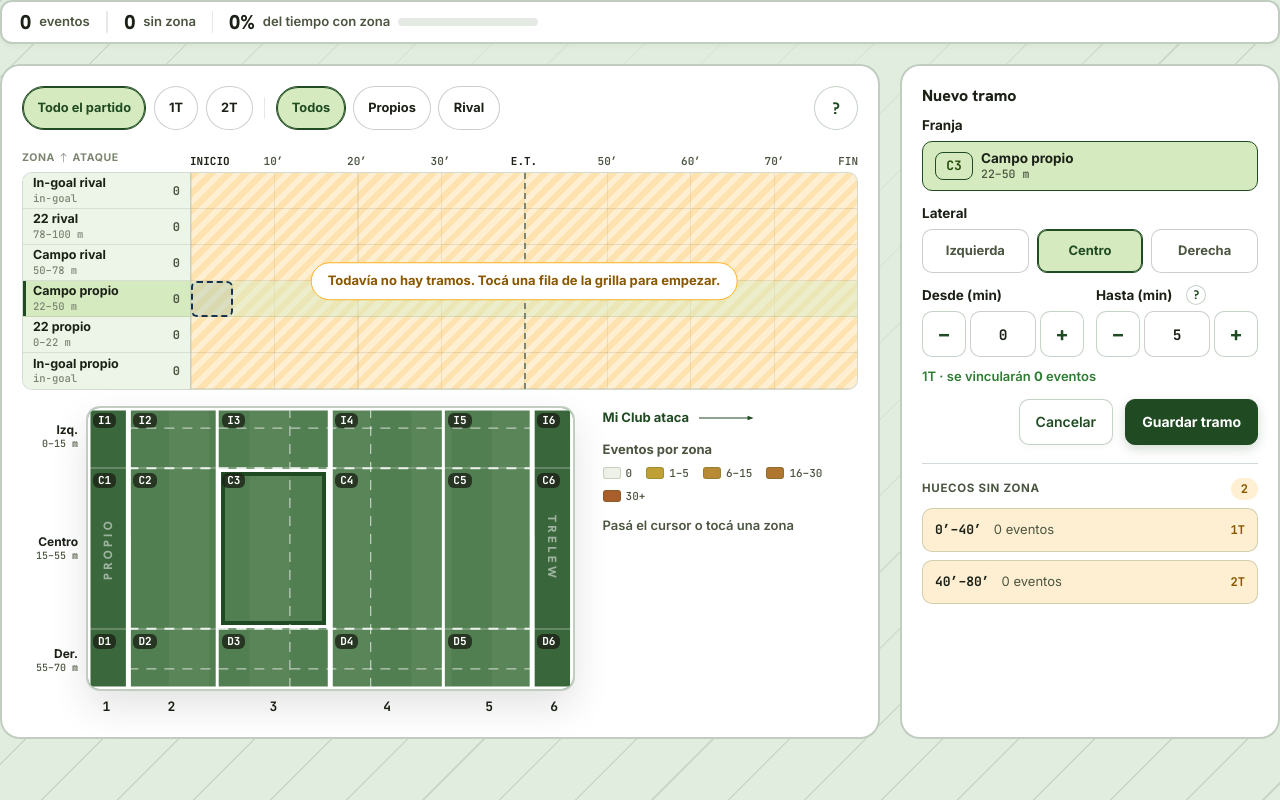
Scenario: PostMatchZonesComponent › atajos de teclado › Ctrl/Cmd + Enter con el formulario inválido no guarda y deja el error inline
This screenshot has width=1280, height=800.
Replace the text in the number field with id "zone-end" with "0" at point(1177, 334), box [1144, 311, 1210, 357]
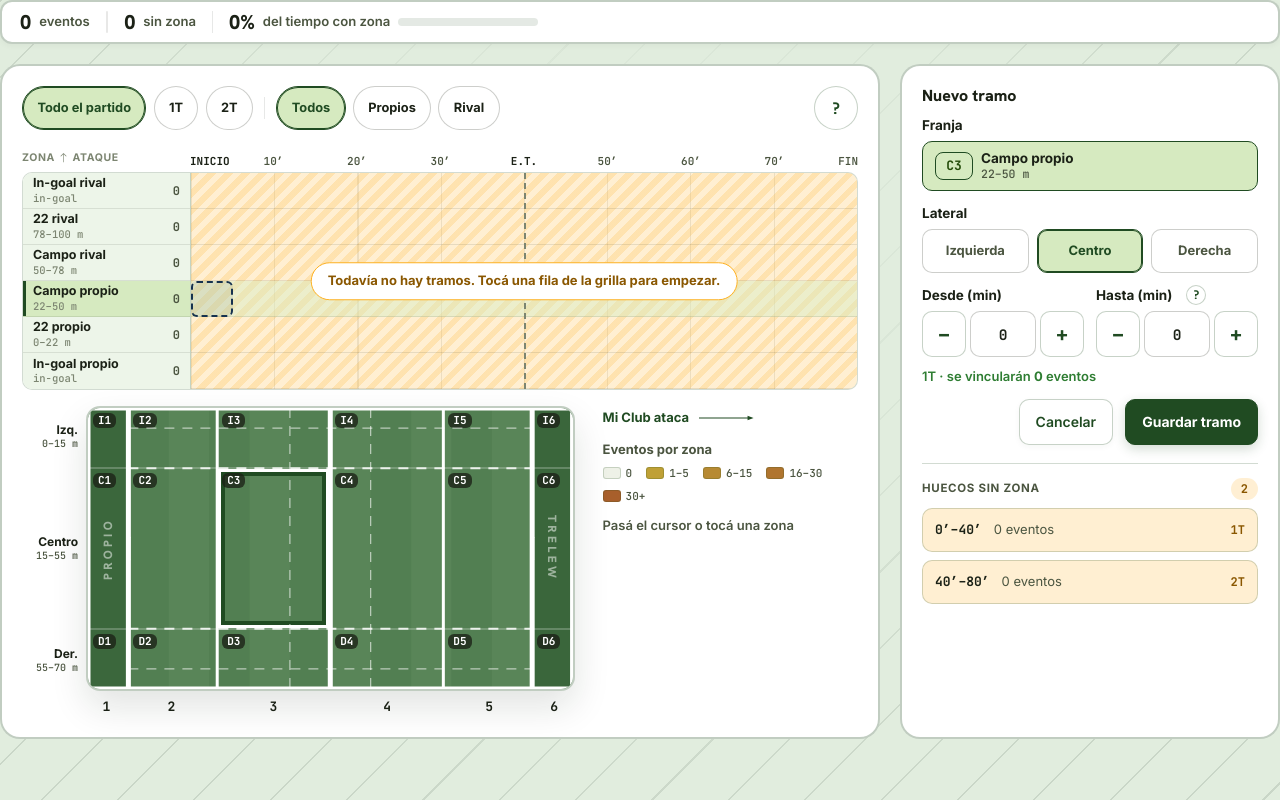
Press Enter in the number field with id "zone-end", box [1144, 311, 1210, 357]
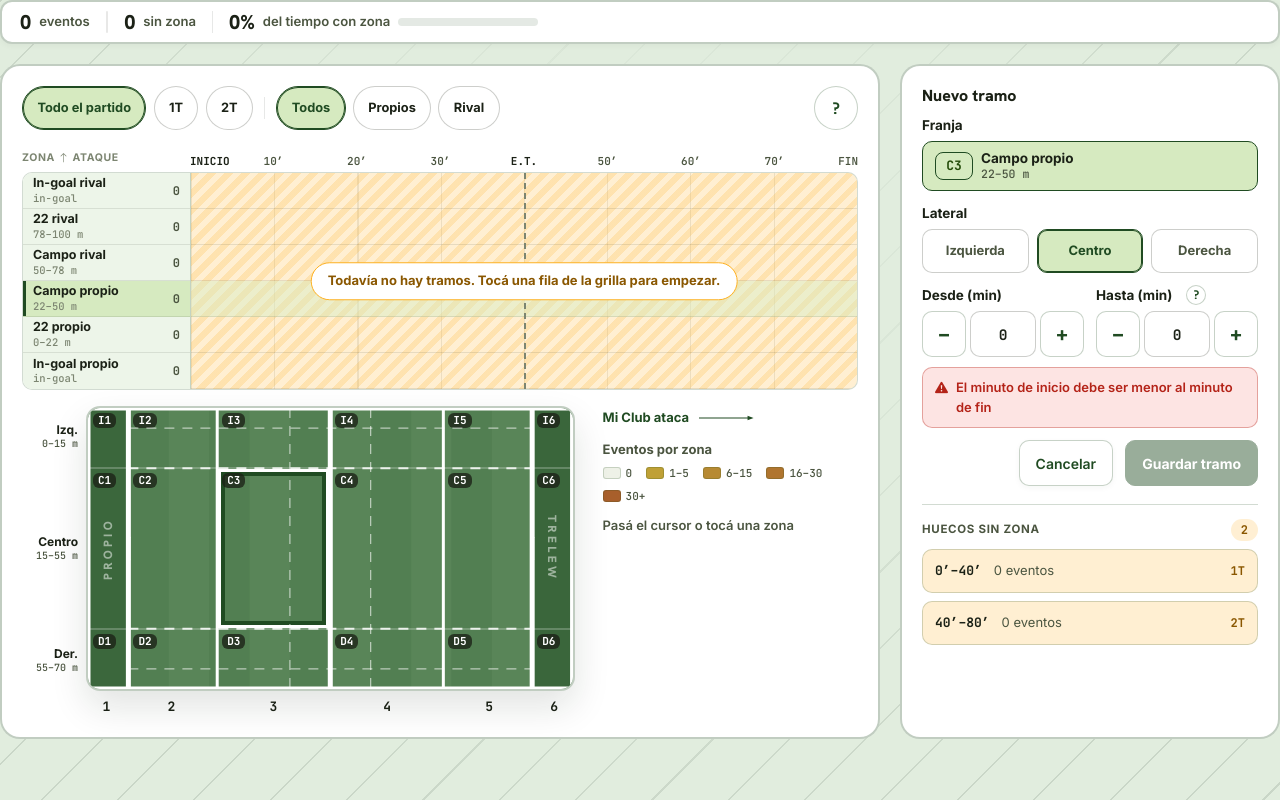
Check: the message "El minuto de inicio debe ser menor al minuto de fin" is shown, box [922, 367, 1258, 428]
